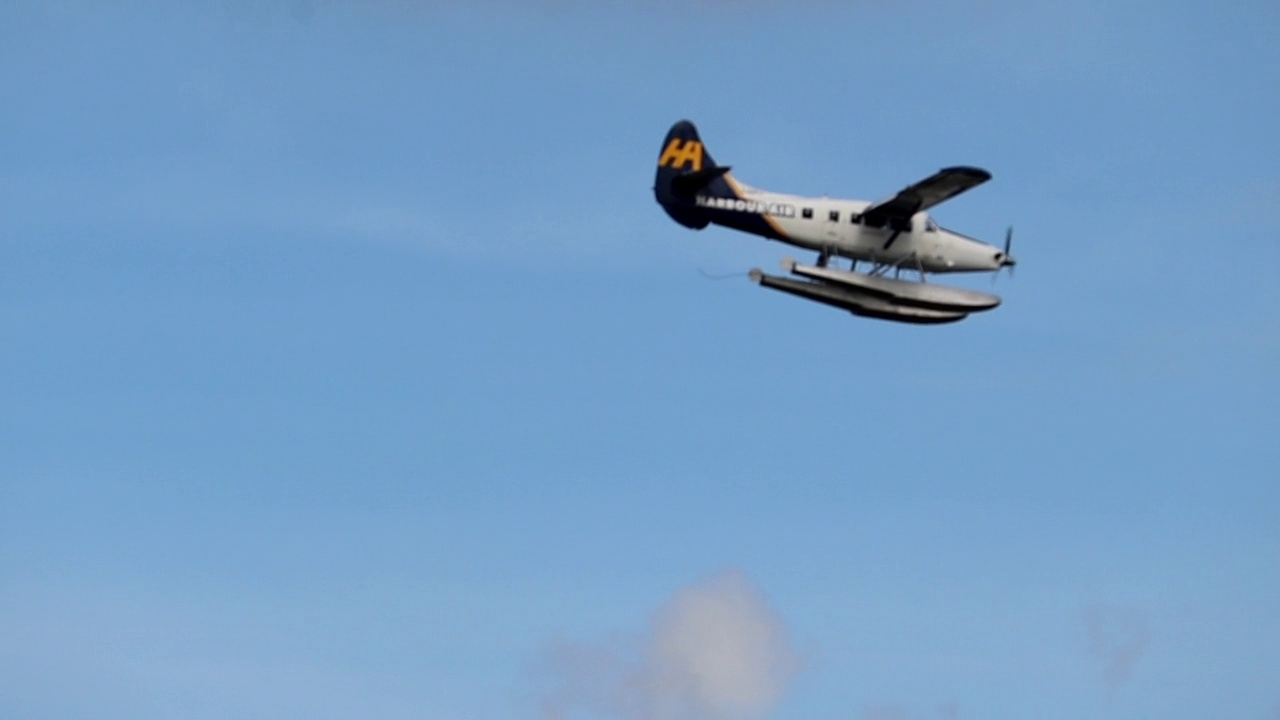plane: (650, 120, 1014, 325)
